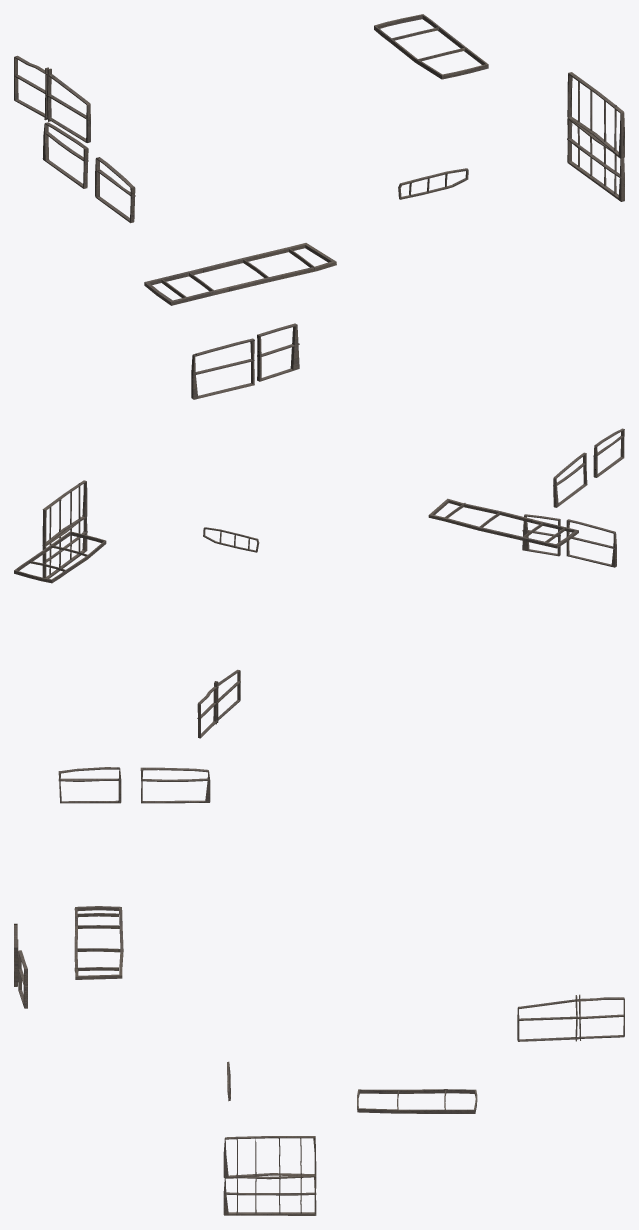
Rendered from SM_Corridor_08_05.fbx.
3 views of the same model, one above another, from view 1: azimuth 30°, elevation 25°; view 2: azimuth 150°, elevation 25°; view 3: azimuth 270°, elevation 25° (orthographic). The views are drawn at different scales.
Visible parts, largest first — view 1: SM_Corridor_08_05; view 2: SM_Corridor_08_05; view 3: SM_Corridor_08_05.
Boxes of the visible parts, left/top/right/bottom form: SM_Corridor_08_05: left=14, top=14, right=624, bottom=399; SM_Corridor_08_05: left=14, top=428, right=624, bottom=738; SM_Corridor_08_05: left=14, top=767, right=624, bottom=1215.
Size of the model in its own units: 3662 by 1374 by 3799.
